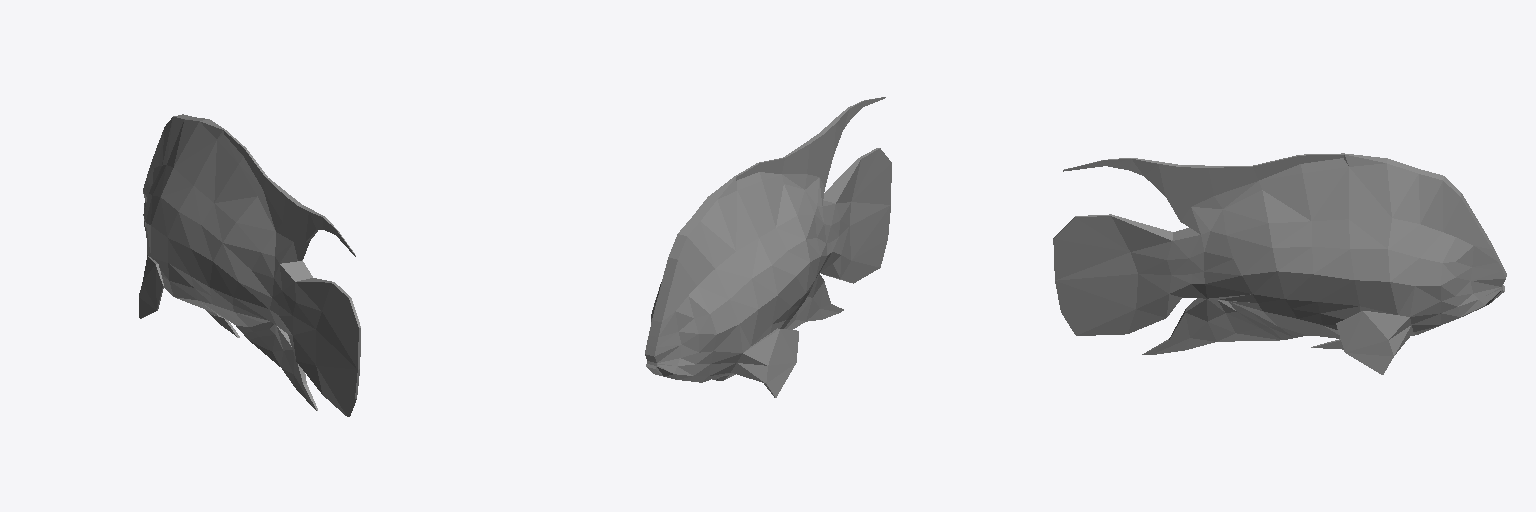
File: TropicalFish6.obj
3 views of the same model, side by side, from view 1: azimuth 30°, elevation 25°; view 2: azimuth 150°, elevation 25°; view 3: azimuth 270°, elevation 25° (orthographic).
Parts seen in each view (by area): view 1: TropicalFish06; view 2: TropicalFish06; view 3: TropicalFish06.
Boxes of the visible parts, x1=… form: TropicalFish06: x1=139, y1=114, x2=360, y2=416; TropicalFish06: x1=645, y1=97, x2=891, y2=397; TropicalFish06: x1=1053, y1=153, x2=1506, y2=374.
Size of the model in its own units: 0.2372 by 0.363 by 0.7285.